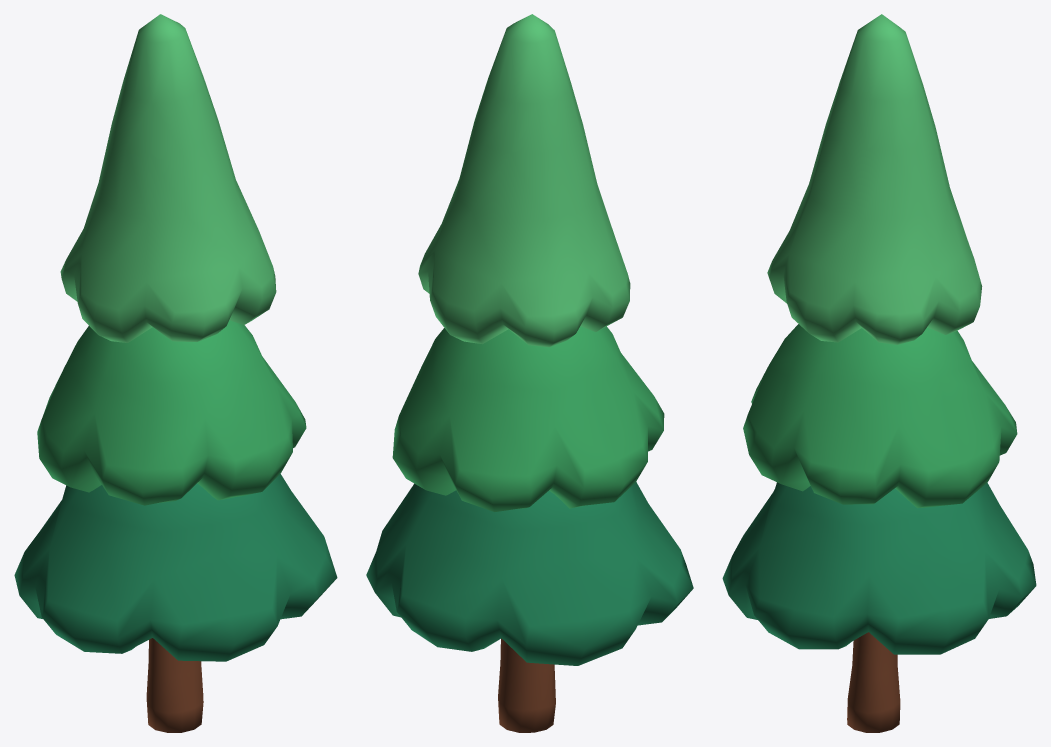
The model's file is Conifer_01_LOD2.gltf.
3 renders of one model, left to right at view 1: azimuth 30°, elevation 25°; view 2: azimuth 150°, elevation 25°; view 3: azimuth 270°, elevation 25°, orthographic.
Visible parts, largest first — view 1: Conifer_01_LOD2_Cylinder.612; view 2: Conifer_01_LOD2_Cylinder.612; view 3: Conifer_01_LOD2_Cylinder.612.
Boxes of the visible parts, x1,y1,x2,y2 form: Conifer_01_LOD2_Cylinder.612: (14, 14, 337, 732); Conifer_01_LOD2_Cylinder.612: (366, 14, 693, 732); Conifer_01_LOD2_Cylinder.612: (722, 14, 1036, 732).
Size of the model in its own units: 5.48 by 13.46 by 5.43.
1 material, 1 textured.
